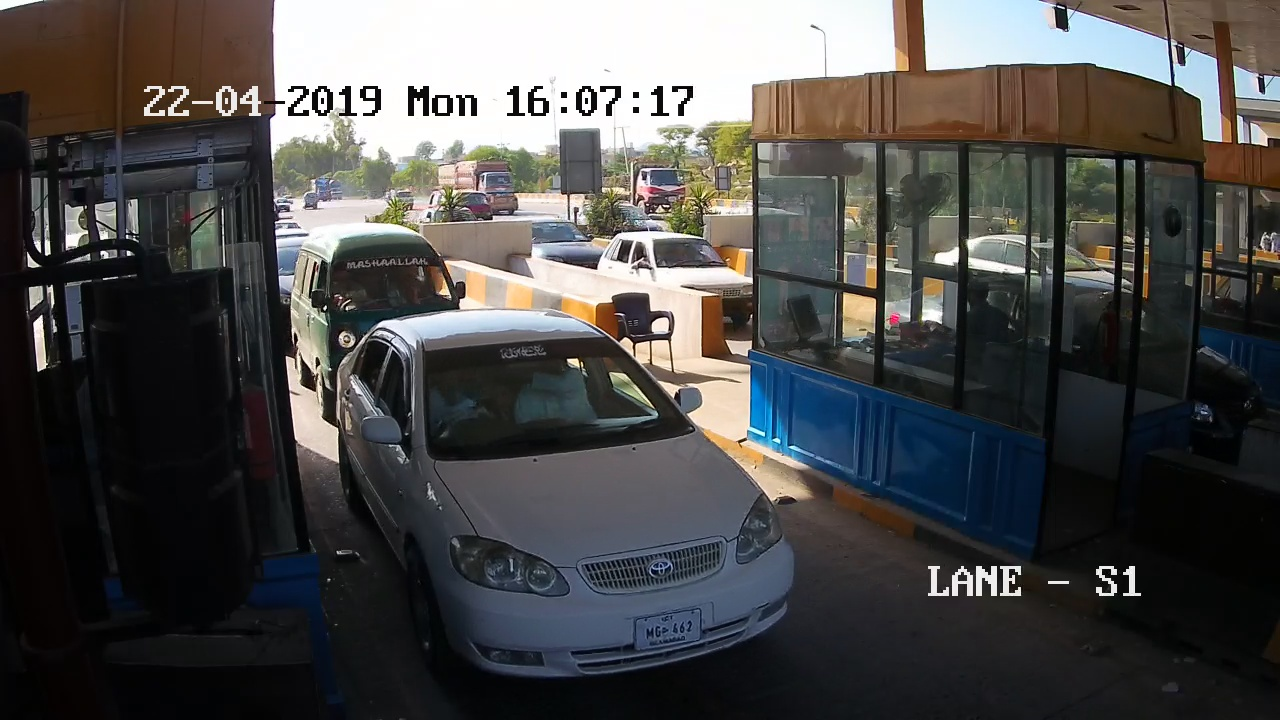Number Plate (Car): (634, 614, 702, 645)
